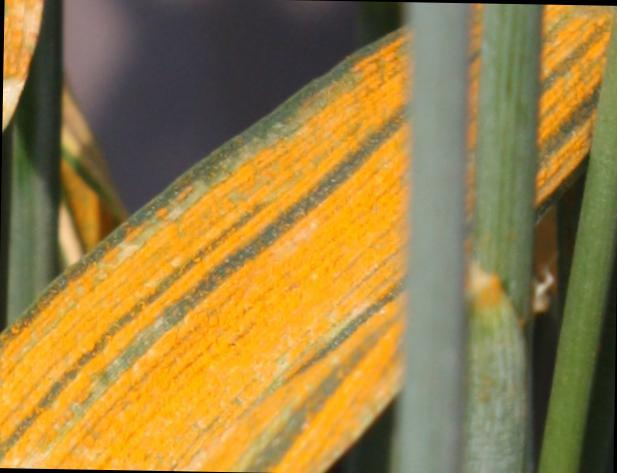Wheat: (9, 192, 290, 472), (211, 56, 394, 378)
